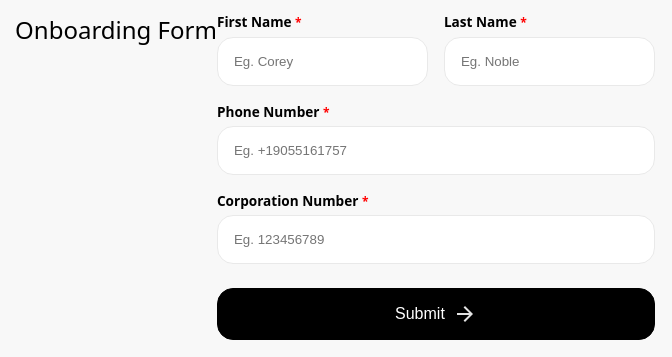
OnboardingForm › formats phone number with +1 prefix
This screenshot has width=672, height=357.
Type "4161234567" into the field labelled "Phone Number *" at x=436, y=150, box 217,126 -> 655,175
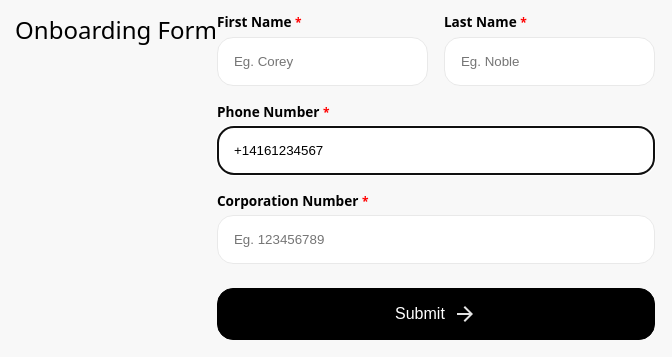
Now the field labelled "Phone Number *" holds "+14161234567", box 217,126 -> 655,175
